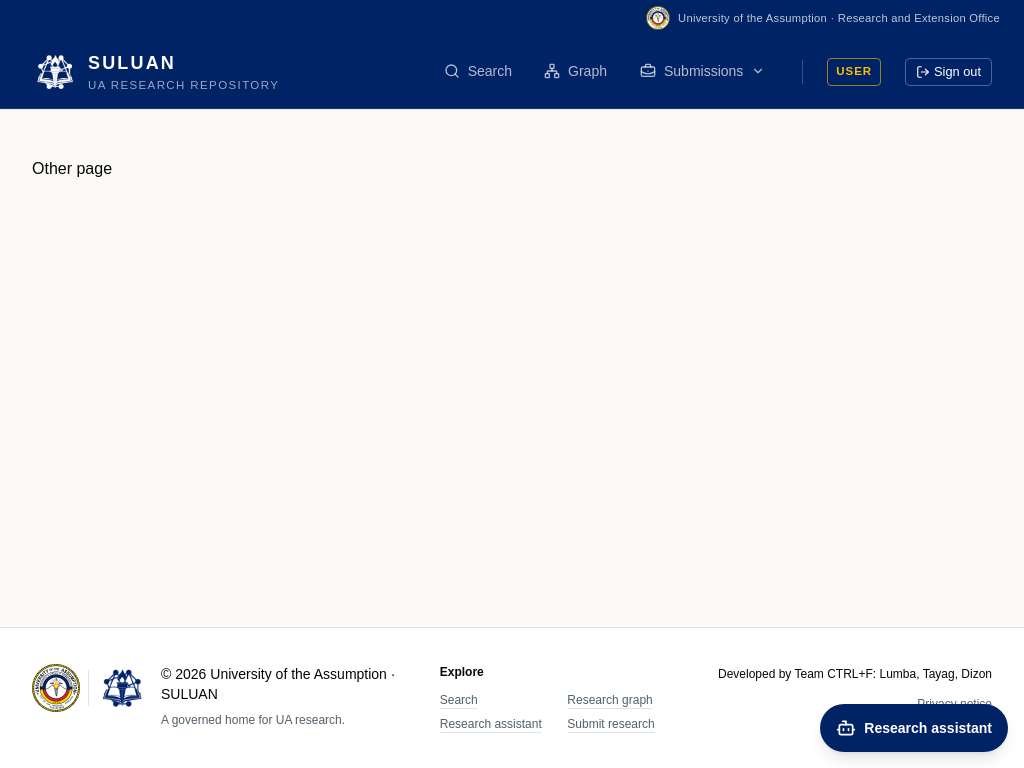
sends sign-out from another page to home
Click the button "Sign out". click: (948, 72)
box: [905,58,992,86]
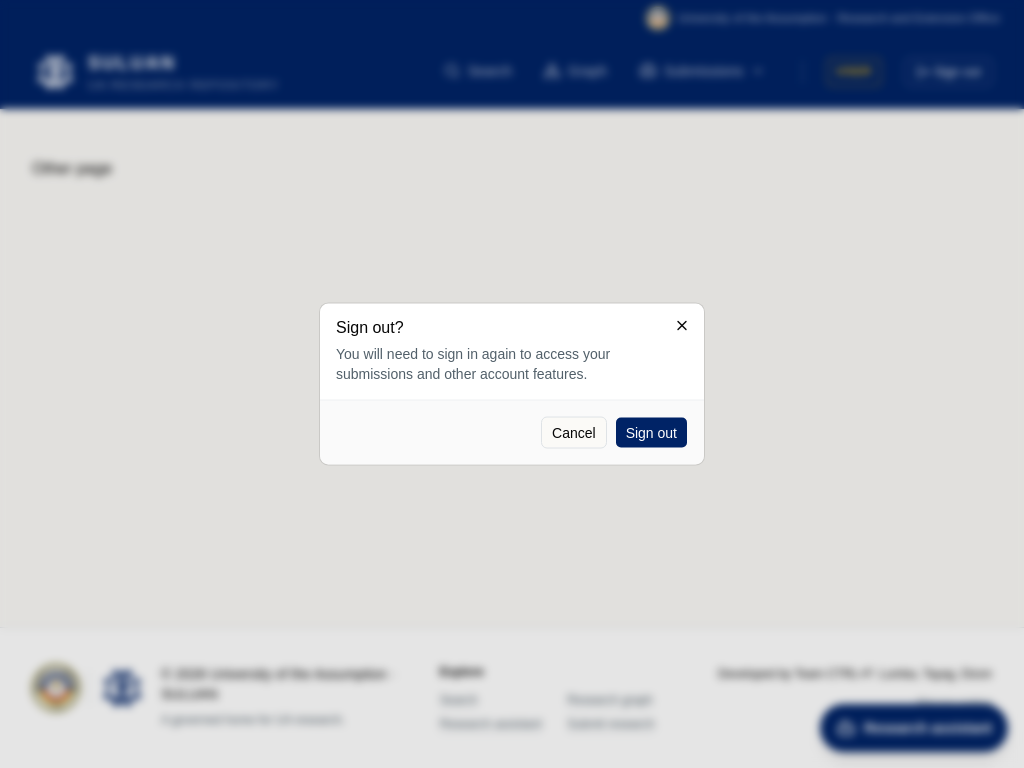
Click the button "Sign out". click: (651, 432)
box: [615,416,688,448]
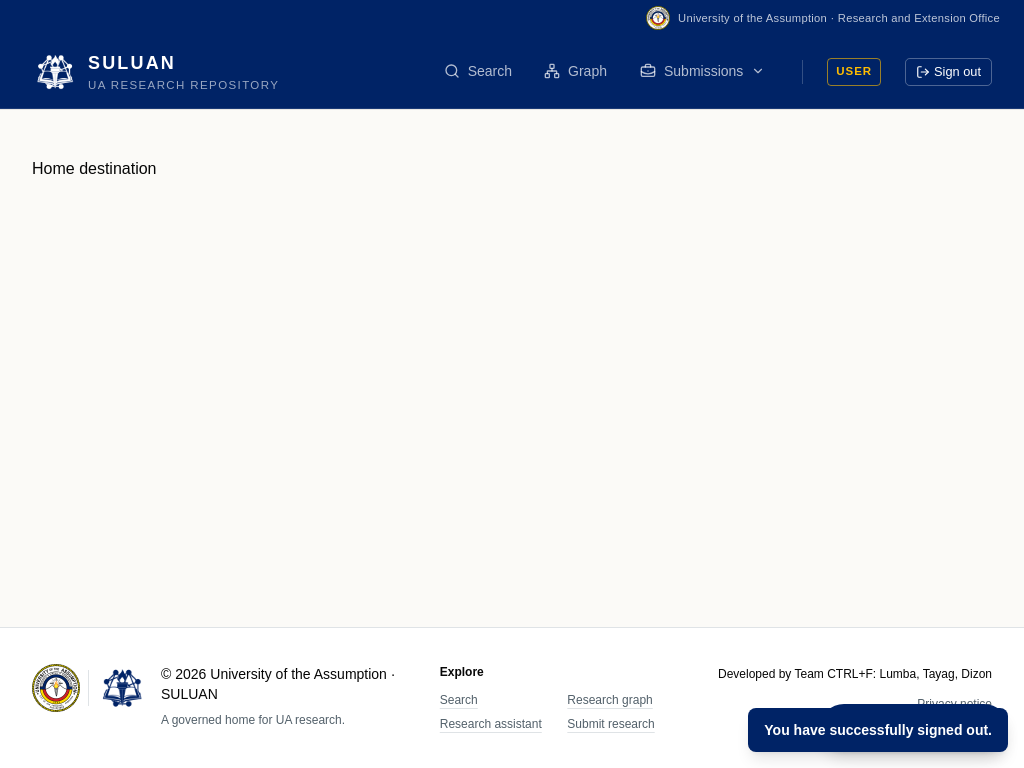
Expected: the text "Home destination" is shown, [32,160,156,177]
Expected: the text "You have successfully signed out." is shown, [748,708,1008,752]
